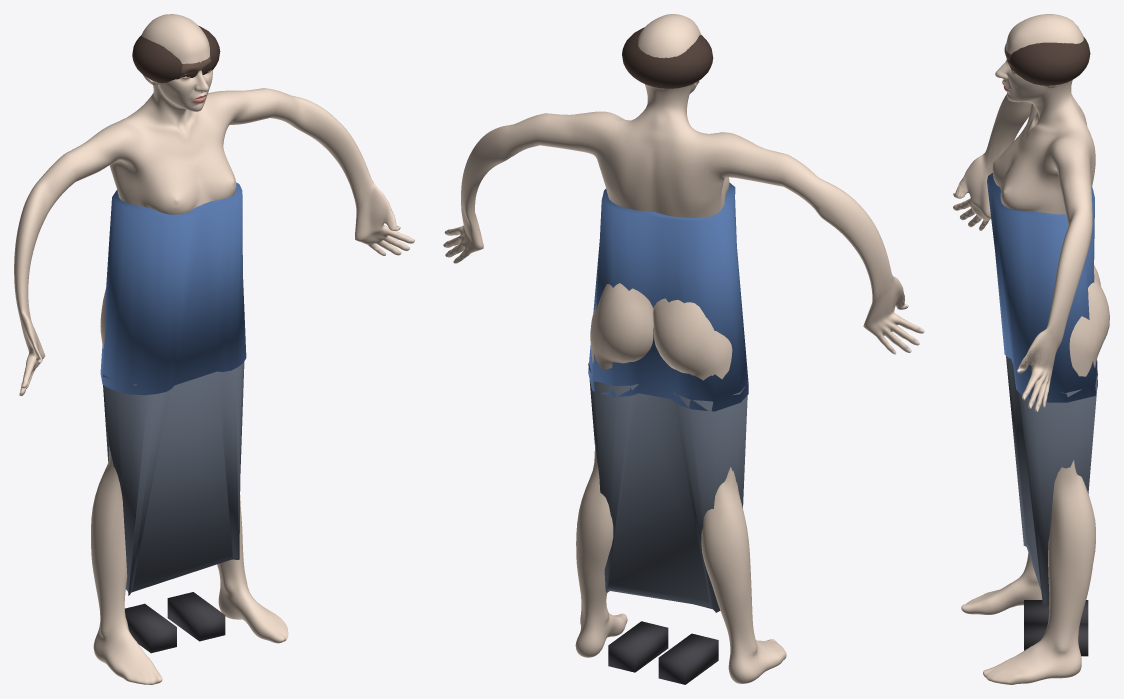
Rendered from hm_ped_rae_v14.glb.
3 views of the same model, side by side, from view 1: azimuth 30°, elevation 25°; view 2: azimuth 150°, elevation 25°; view 3: azimuth 270°, elevation 25° (orthographic). The views are drawn at different scales.
Visible parts, largest first — view 1: hm_ped_rae; view 2: hm_ped_rae; view 3: hm_ped_rae.
Boxes of the visible parts, box(x1,y1,x2,y2) form: hm_ped_rae: box(14, 14, 414, 684); hm_ped_rae: box(443, 14, 924, 684); hm_ped_rae: box(953, 14, 1109, 684).
Bounding box in the file's own units: 1.24 × 1.72 × 0.3913.
